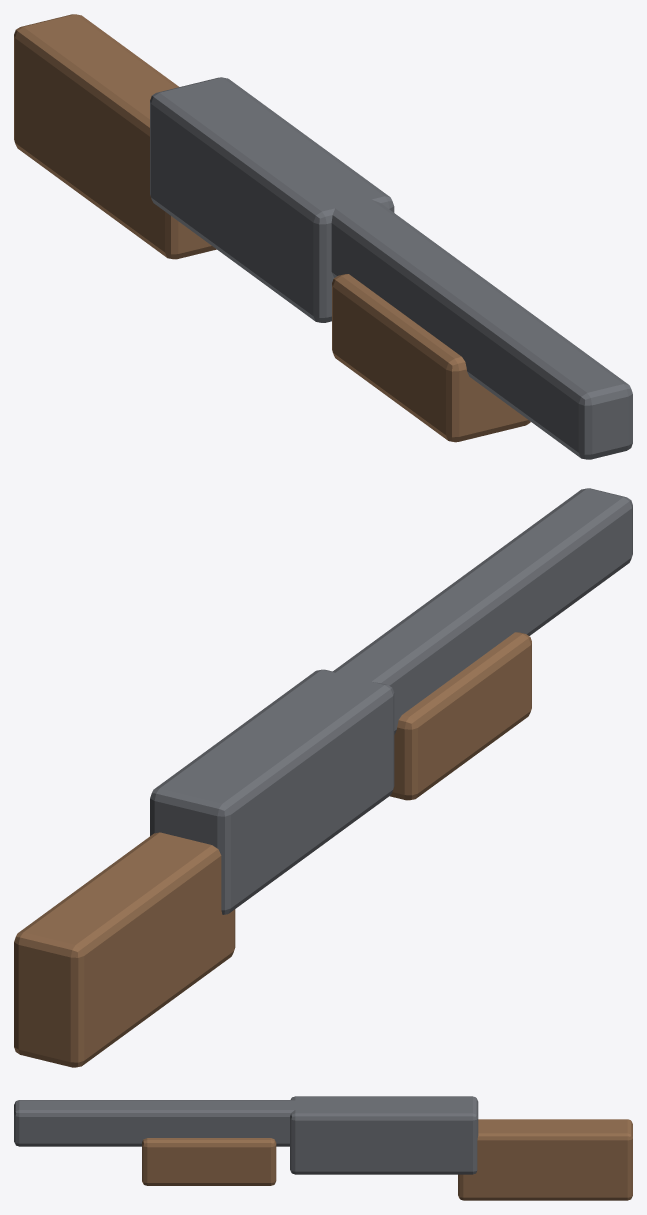
Rendered from weapon_shotgun.glb.
3 renders of one model, top to bottom at view 1: azimuth 30°, elevation 25°; view 2: azimuth 150°, elevation 25°; view 3: azimuth 270°, elevation 25°, orthographic. The views are drawn at different scales.
Visible parts, largest first — view 1: Receiver, Barrel, Stock, Pump; view 2: Stock, Receiver, Barrel, Pump; view 3: Receiver, Stock, Barrel, Pump.
Part boxes in pixels (<box>): Receiver: <box>150,77,394,322</box>; Barrel: <box>331,199,632,459</box>; Stock: <box>14,14,216,259</box>; Pump: <box>332,274,530,442</box>; Stock: <box>14,832,235,1067</box>; Receiver: <box>150,669,394,914</box>; Barrel: <box>333,488,632,734</box>; Pump: <box>390,632,531,800</box>; Receiver: <box>290,1096,478,1174</box>; Stock: <box>458,1119,632,1200</box>; Barrel: <box>14,1100,295,1146</box>; Pump: <box>142,1138,276,1185</box>.
Size of the model in its own units: 0.08 by 0.145 by 0.92.
